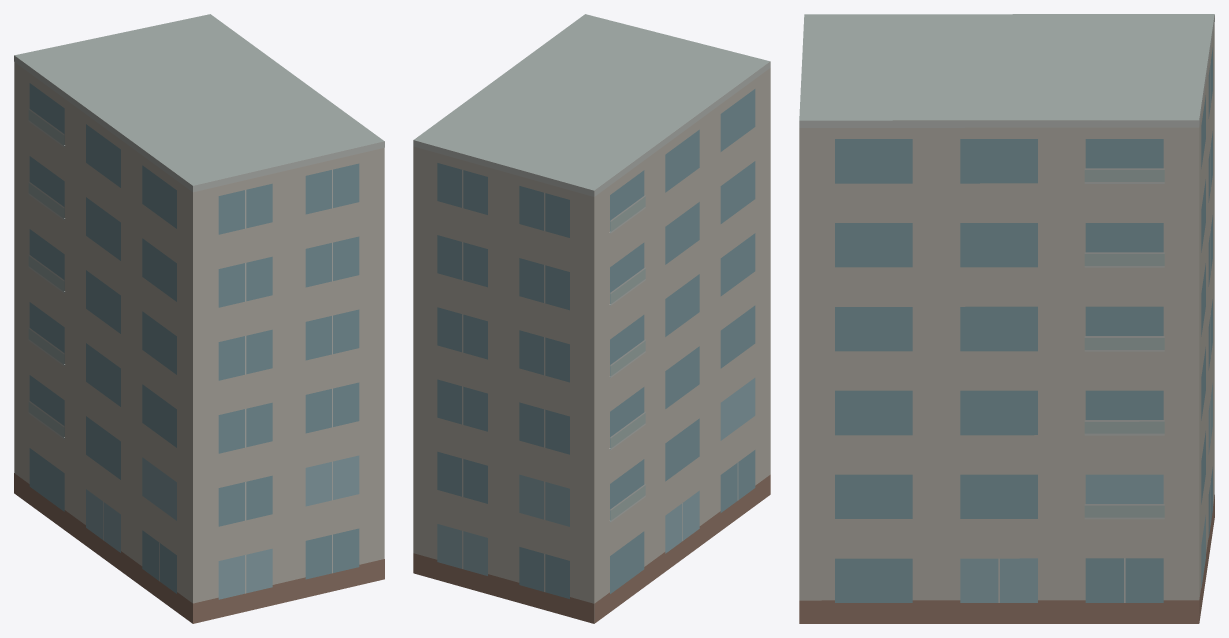
The model's file is survey-upis-33004480.glb.
3 views of the same model, side by side, from view 1: azimuth 30°, elevation 25°; view 2: azimuth 150°, elevation 25°; view 3: azimuth 270°, elevation 25° (orthographic). The views are drawn at different scales.
Parts seen in each view (by area): view 1: survey-upis-33004480.tmp; view 2: survey-upis-33004480.tmp; view 3: survey-upis-33004480.tmp.
Boxes of the visible parts, bbox=[...] form: survey-upis-33004480.tmp: bbox=[14, 14, 384, 623]; survey-upis-33004480.tmp: bbox=[413, 14, 770, 623]; survey-upis-33004480.tmp: bbox=[799, 14, 1214, 623].
Bounding box in the file's own units: 7.6 × 16.6 × 12.43.
